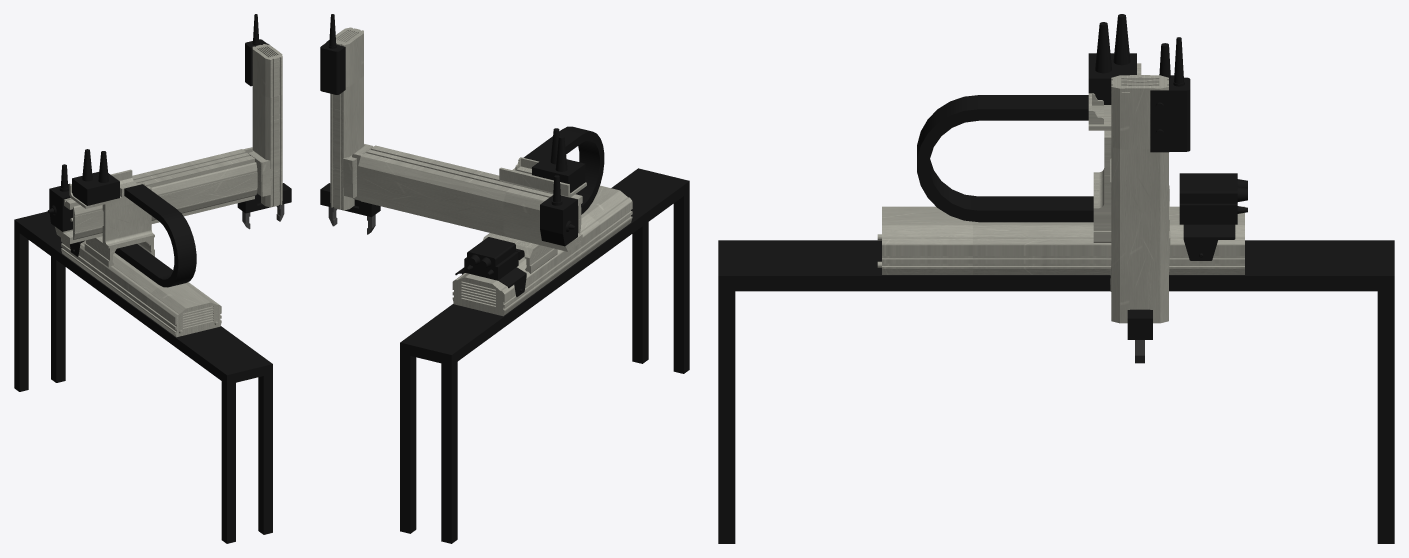
File: Pick_and_Place_Robot_Longer.glb
3 views of the same model, side by side, from view 1: azimuth 30°, elevation 25°; view 2: azimuth 150°, elevation 25°; view 3: azimuth 270°, elevation 25° (orthographic). The views are drawn at different scales.
Visible parts, largest first — view 1: color-8.002, PP_Machine_Floating_X_Rebuilt, color-5[5], color-9.002, color.003, PP_Floating_X_Bodies, color-5.002, color[1].001, PP_Gripper; view 2: color-8.002, color-5[5], color-9.002, PP_Machine_Floating_X_Rebuilt, color.003, color-9[1], color-5.002, color[1].001, PP_Floating_X_Bodies, PP_Gripper; view 3: color-8.002, color-9.002, color.003, PP_Machine_Floating_X_Rebuilt, color-9[1], color[1].001, PP_Floating_X_Bodies, PP_Gripper.
Part boxes in pixels (box(x1,y1,x2,y2)): color-8.002: box(14, 211, 272, 543); PP_Machine_Floating_X_Rebuilt: box(69, 149, 196, 287); color-5[5]: box(55, 147, 271, 243); color-9.002: box(61, 238, 221, 337); color.003: box(252, 44, 282, 207); PP_Floating_X_Bodies: box(72, 151, 119, 205); color-5.002: box(49, 183, 72, 231); color[1].001: box(245, 14, 269, 86); PP_Gripper: box(237, 183, 291, 213); color-8.002: box(400, 168, 689, 543); color-5[5]: box(343, 144, 582, 251); color-9.002: box(452, 185, 632, 316); PP_Machine_Floating_X_Rebuilt: box(482, 126, 604, 273); color.003: box(330, 27, 363, 210); color-9[1]: box(455, 237, 526, 296); color-5.002: box(540, 195, 577, 246); color[1].001: box(320, 14, 345, 94); PP_Floating_X_Bodies: box(532, 128, 585, 192); PP_Gripper: box(320, 183, 380, 217); color-8.002: box(718, 240, 1394, 543); color-9.002: box(877, 206, 1244, 274); color.003: box(1111, 75, 1168, 323); PP_Machine_Floating_X_Rebuilt: box(917, 14, 1169, 242); color-9[1]: box(1179, 173, 1247, 260); color[1].001: box(1150, 37, 1190, 152); PP_Floating_X_Bodies: box(1088, 22, 1136, 104); PP_Gripper: box(1127, 309, 1152, 339).
Bounding box in the file's own units: 0.5028 × 0.79 × 0.8.
Materials: 4 (1 with a texture image).
